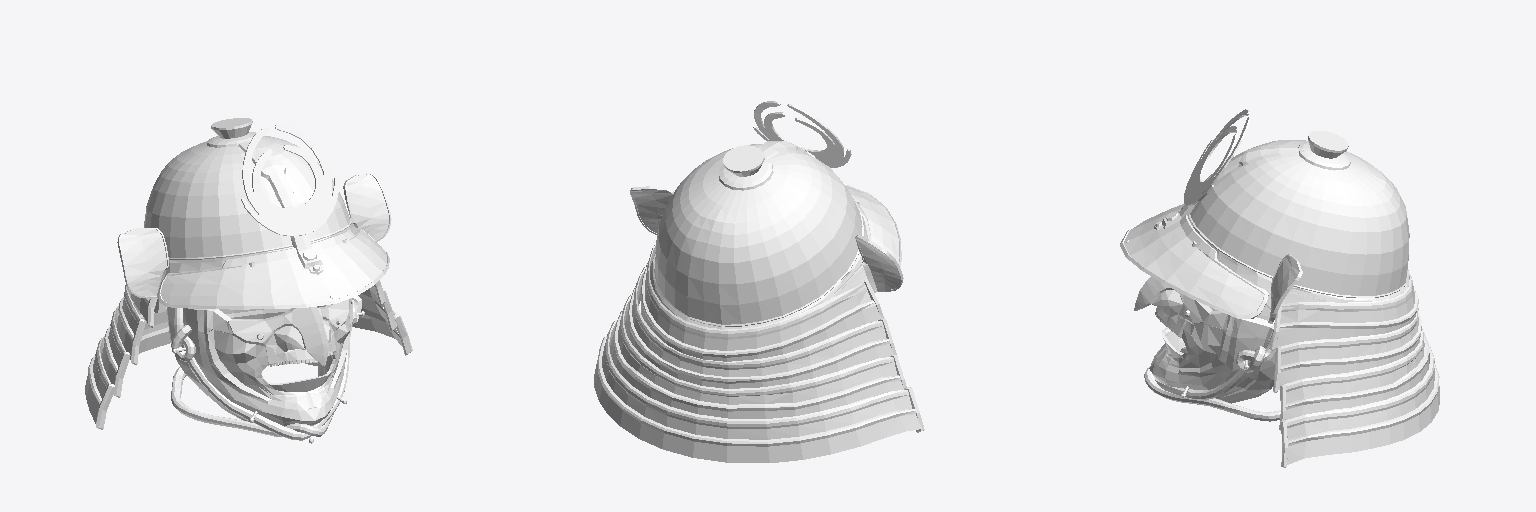
The model's file is helmet.obj.
3 views of the same model, side by side, from view 1: azimuth 30°, elevation 25°; view 2: azimuth 150°, elevation 25°; view 3: azimuth 270°, elevation 25° (orthographic).
Parts seen in each view (by area): view 1: Helmet_002_Helmet.002; view 2: Helmet_002_Helmet.002; view 3: Helmet_002_Helmet.002.
Boxes of the visible parts, x1=… form: Helmet_002_Helmet.002: x1=85, y1=118, x2=412, y2=443; Helmet_002_Helmet.002: x1=594, y1=101, x2=924, y2=462; Helmet_002_Helmet.002: x1=1120, y1=109, x2=1439, y2=467.
Size of the model in its own units: 5.18 by 4.43 by 4.54.